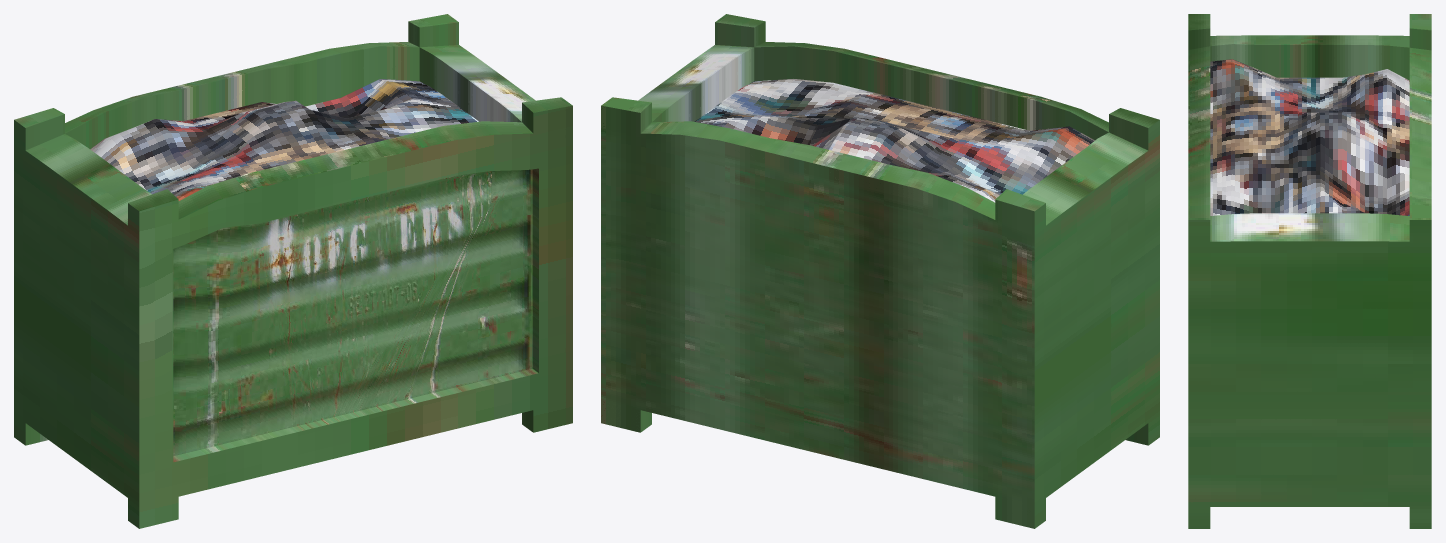
The model's file is GarbageContainer.glb.
3 renders of one model, left to right at view 1: azimuth 30°, elevation 25°; view 2: azimuth 150°, elevation 25°; view 3: azimuth 270°, elevation 25°, orthographic. The views are drawn at different scales.
Visible parts, largest first — view 1: GarbageContainer; view 2: GarbageContainer; view 3: GarbageContainer.
Boxes of the visible parts, bbox=[...] form: GarbageContainer: bbox=[14, 14, 572, 528]; GarbageContainer: bbox=[601, 14, 1159, 528]; GarbageContainer: bbox=[1188, 14, 1431, 528].
Bounding box in the file's own units: 2 × 1.42 × 1.
Materials: 2 (2 with a texture image).
